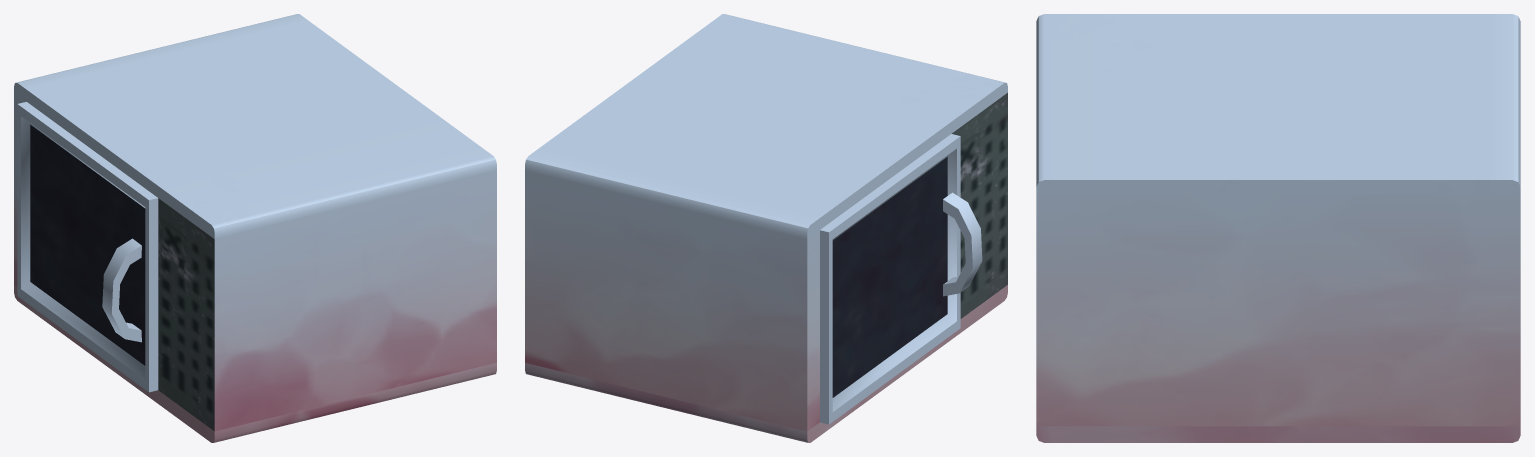
Rendered from Microwave.fbx.
3 renders of one model, left to right at view 1: azimuth 30°, elevation 25°; view 2: azimuth 150°, elevation 25°; view 3: azimuth 270°, elevation 25°, orthographic. The views are drawn at different scales.
Visible parts, largest first — view 1: handle1; view 2: handle1; view 3: handle1.
Boxes of the visible parts, x1,y1,x2,y2 form: handle1: (14, 14, 496, 442); handle1: (525, 14, 1007, 442); handle1: (1036, 14, 1520, 442).
Bounding box in the file's own units: 65.27 × 42.38 × 70.74.
